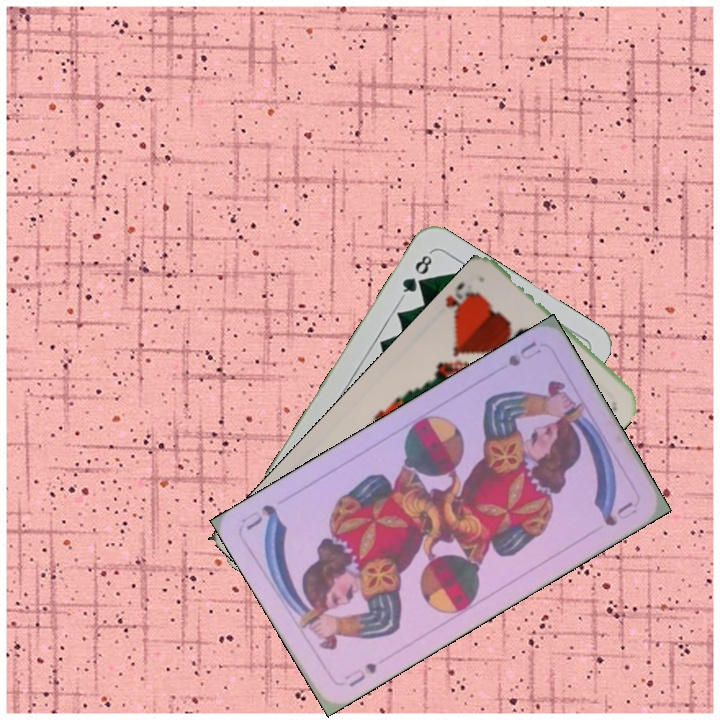G8: (397, 248, 435, 301)
HO: (441, 279, 483, 325)
SU: (504, 337, 544, 369), (345, 658, 379, 690)
